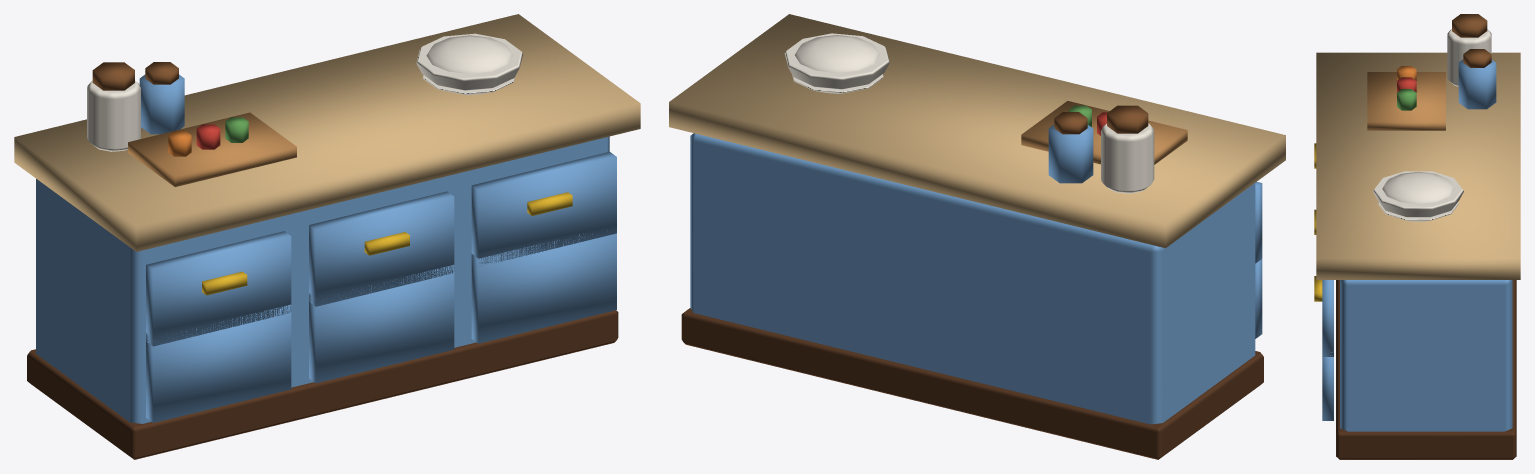
Rendered from kitchen_counter.glb.
The picture shows the model from 3 angles, left to right: view 1: azimuth 30°, elevation 25°; view 2: azimuth 150°, elevation 25°; view 3: azimuth 270°, elevation 25°; orthographic projection. The views are drawn at different scales.
Parts seen in each view (by area): view 1: kitchen_counter; view 2: kitchen_counter; view 3: kitchen_counter.
Part boxes in pixels (x1,y1,x2,y2): kitchen_counter: (14, 14, 640, 459); kitchen_counter: (669, 14, 1285, 459); kitchen_counter: (1314, 14, 1520, 459).
Bounding box in the file's own units: 1.24 × 0.75 × 0.525.
